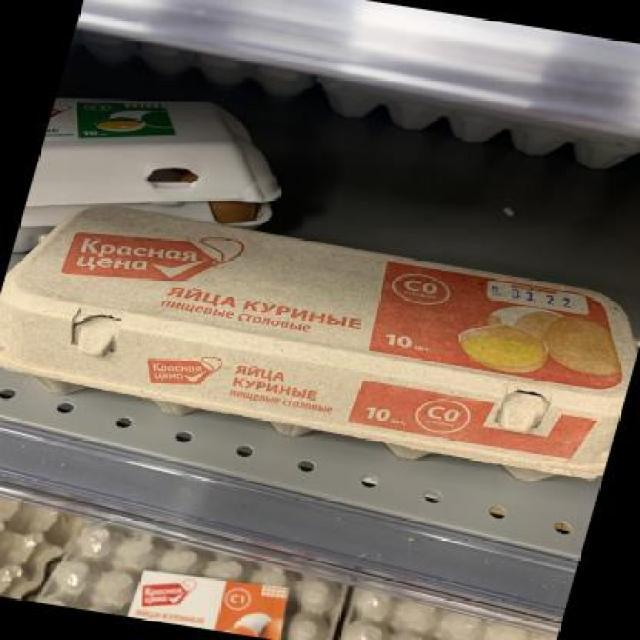Egg: (1, 188, 640, 490)
